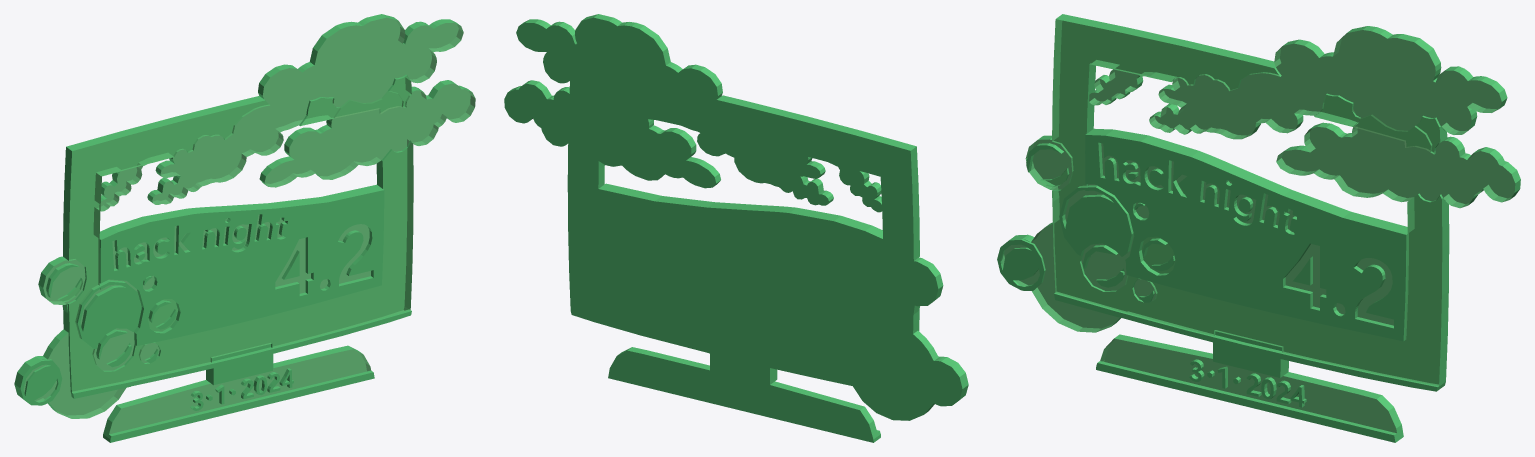
Rendered from badge4.2-3.glb.
3 renders of one model, left to right at view 1: azimuth 30°, elevation 25°; view 2: azimuth 150°, elevation 25°; view 3: azimuth 330°, elevation 25°, orthographic. The views are drawn at different scales.
Visible parts, largest first — view 1: Curve.002; view 2: Curve.002; view 3: Curve.002.
Part boxes in pixels (box(x1,y1,x2,y2)): Curve.002: box(14, 14, 475, 442); Curve.002: box(504, 14, 968, 442); Curve.002: box(997, 14, 1520, 442).
Size of the model in its own units: 0.2138 by 0.1594 by 0.006.
